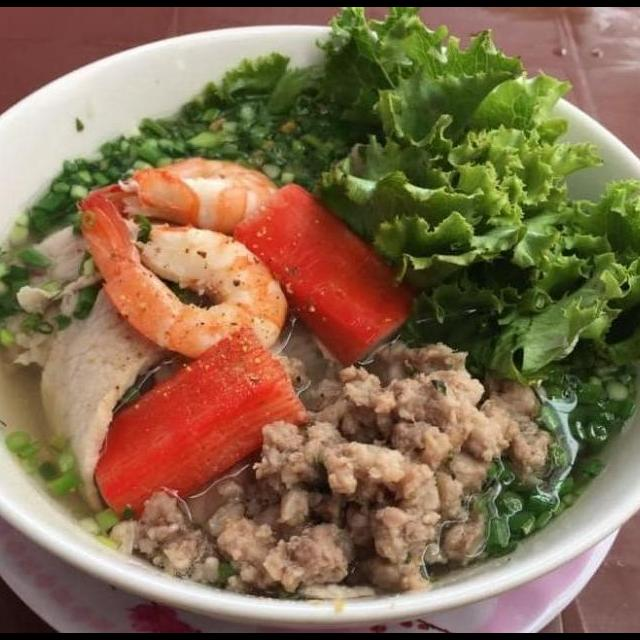thit bam: (103, 334, 557, 611)
thit heo: (32, 276, 175, 519), (0, 209, 145, 376)
tom: (64, 190, 292, 365), (65, 153, 287, 242)
